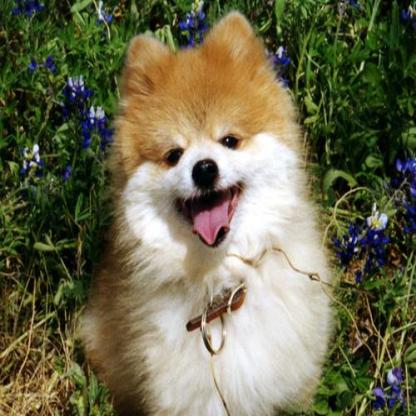Pomeranian: (72, 6, 342, 414)
